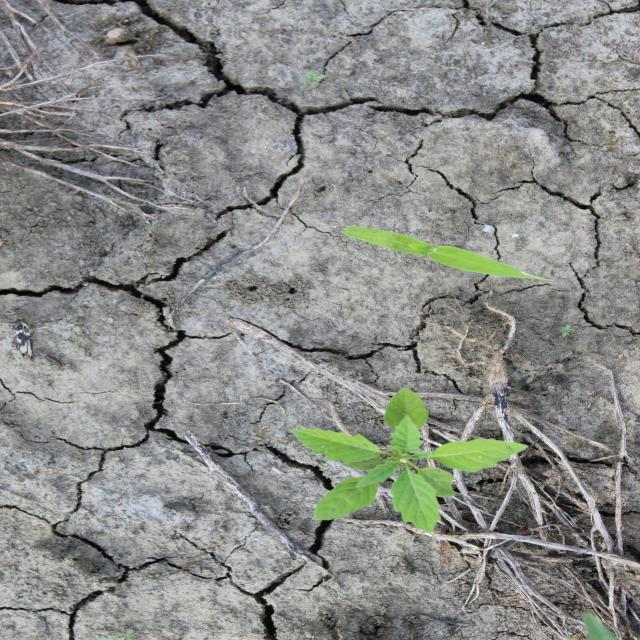CutleafGroundcherry: (288, 386, 532, 538)
